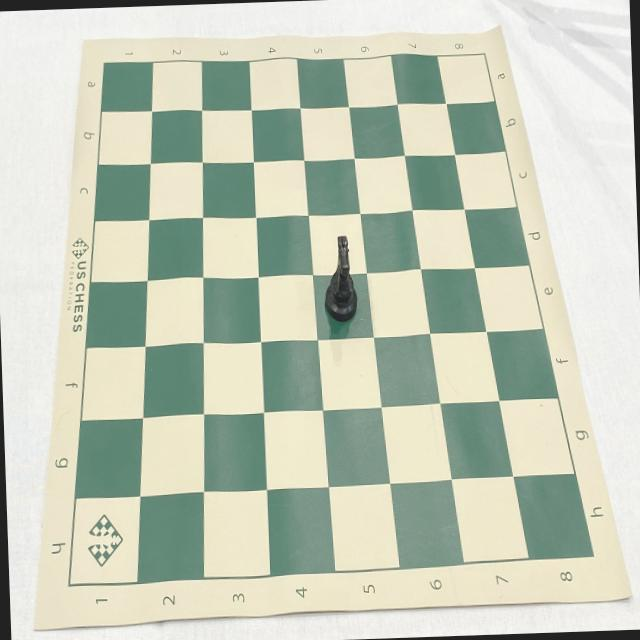black-knight: (321, 234, 358, 324)
